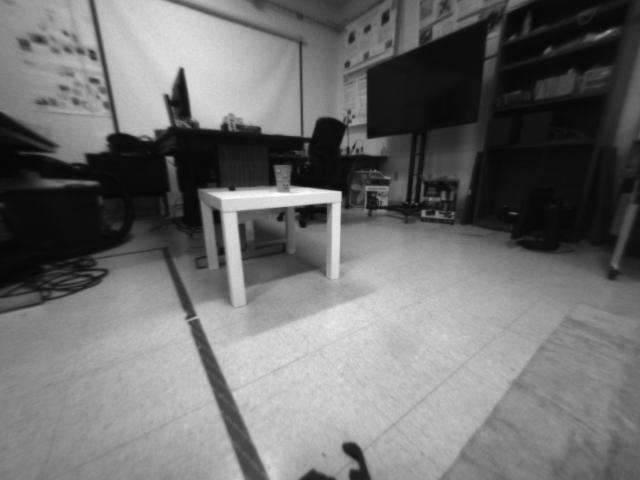coffee_cup: (271, 163, 294, 192)
